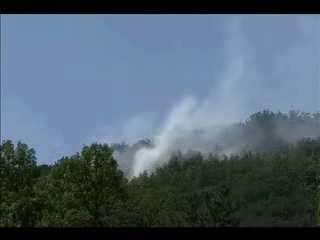smoke: (185, 25, 318, 159), (116, 103, 185, 183)
